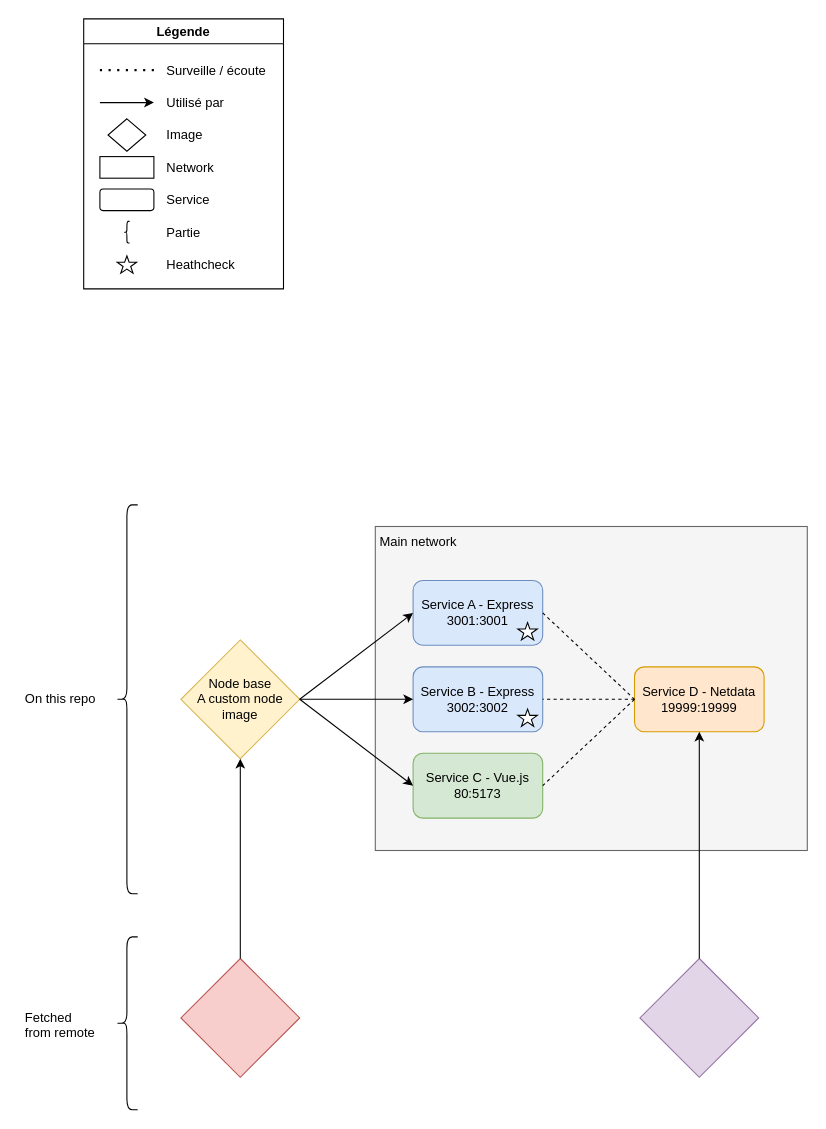
Image size: 826x1129. Some labels were removed from this diagram. Here are the shapes that lost their labels. From the top down, the centre of each, then its label:
At pixel 126 199: "Name - Tecno external port : internal port".
At pixel 240 1017: "Debian 12 Slim".
At pixel 699 1017: "Netdata stable version".
